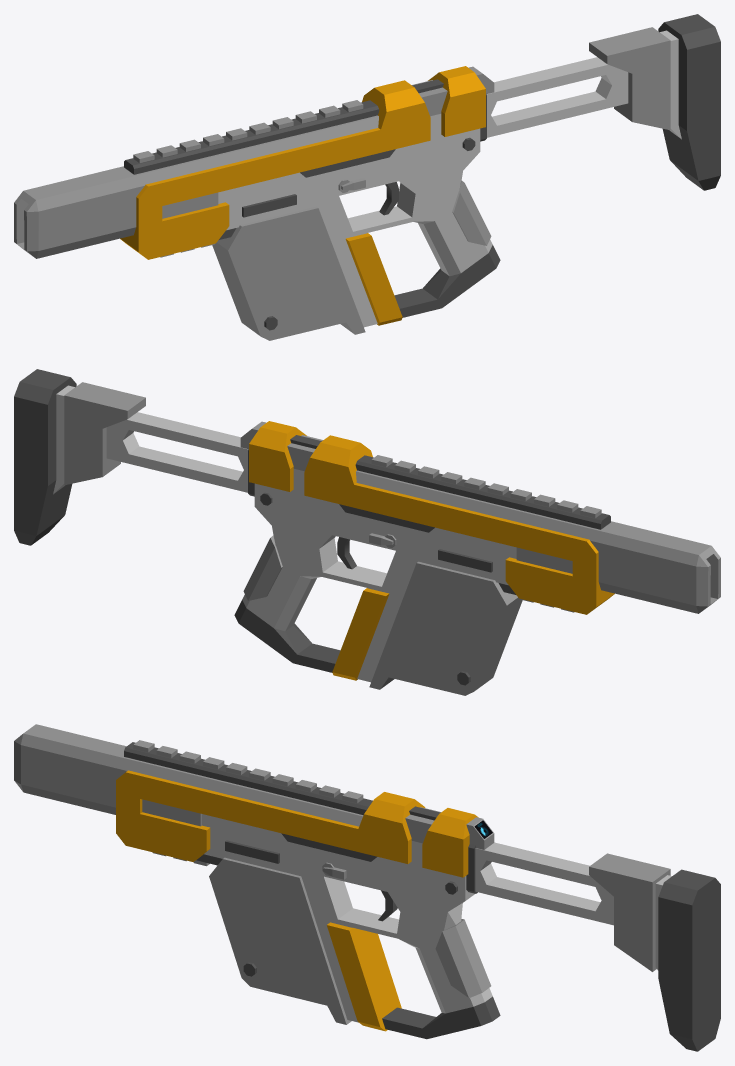
File: SM_SMG01.fbx
The picture shows the model from 3 angles, top to bottom: view 1: azimuth 30°, elevation 25°; view 2: azimuth 150°, elevation 25°; view 3: azimuth 330°, elevation 25°; orthographic projection.
Visible parts, largest first — view 1: SM_SMG01; view 2: SM_SMG01; view 3: SM_SMG01.
Boxes of the visible parts, x1,y1,x2,y2 form: SM_SMG01: (14,14,720,340); SM_SMG01: (14,369,720,695); SM_SMG01: (14,724,720,1051).
Size of the model in its own units: 58.62 by 18.65 by 4.26.
6 materials, 1 textured.
